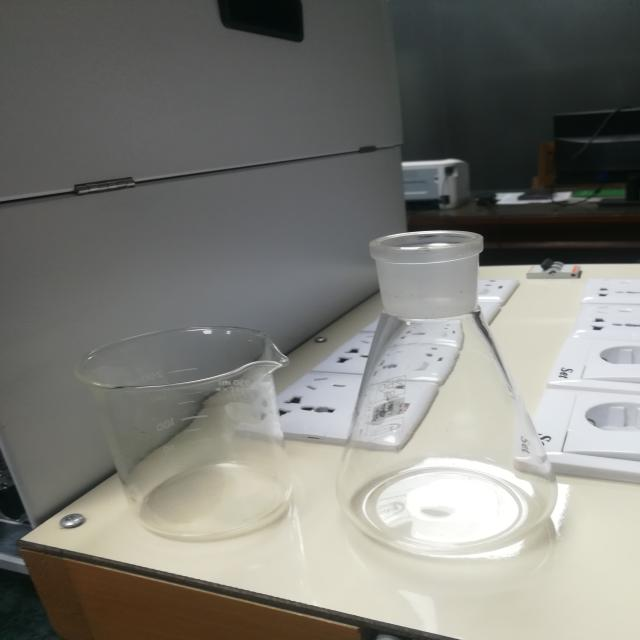Beaker: (56, 294, 320, 561)
Conical_Flask: (336, 208, 583, 566)
